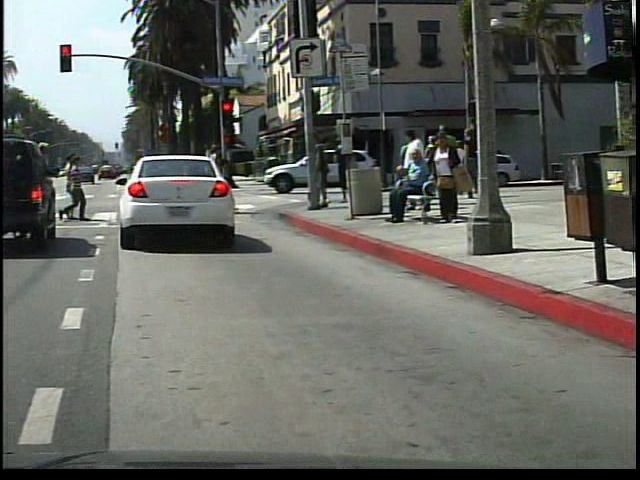person: (387, 151, 437, 228), (431, 130, 469, 229), (198, 137, 237, 219)
